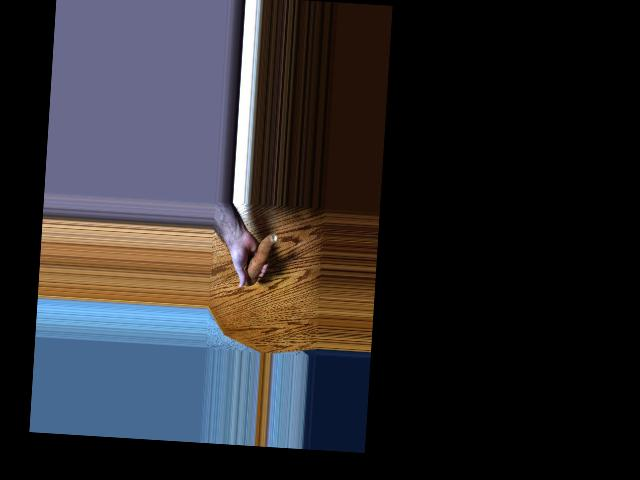sweet_potato: (245, 229, 277, 285)
